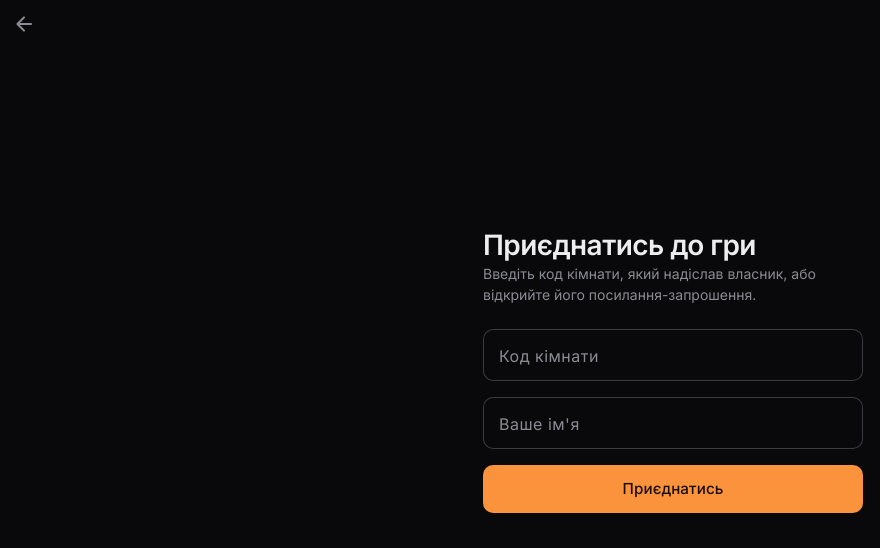
Test: Join room › blocks submission with empty fields
The width and height of the screenshot is (880, 548).
Click the button "Приєднатись" at (673, 489), box x1=483 y1=465 x2=863 y2=513
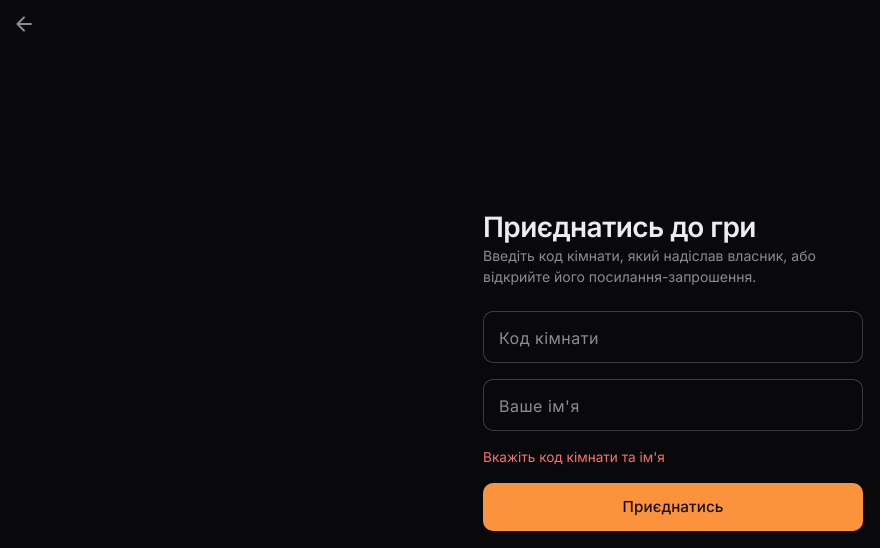
expect the text "Вкажіть код кімнати та ім'я" is shown: met, box x1=483 y1=449 x2=665 y2=465
